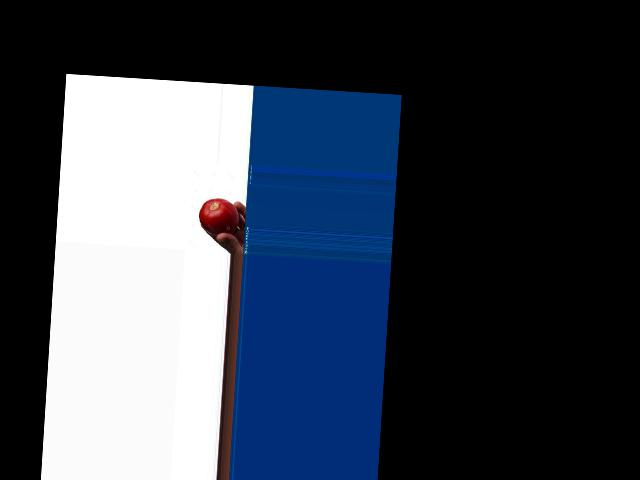tomato: (198, 197, 240, 237)
